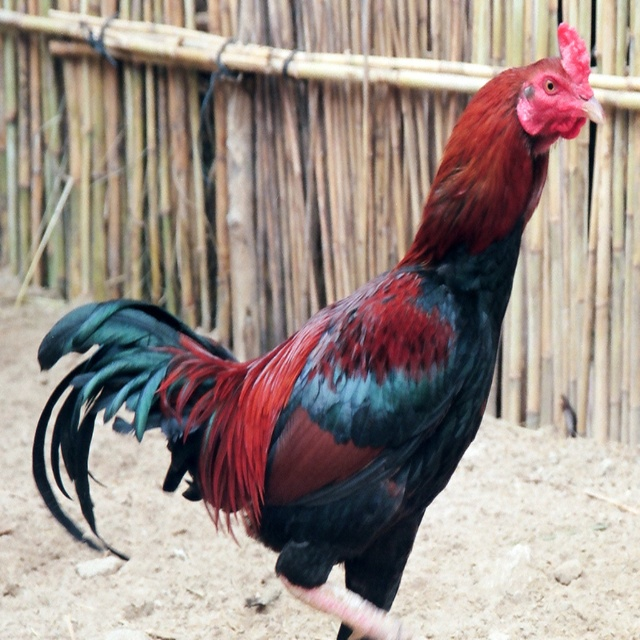Chicken: (20, 22, 609, 639)
